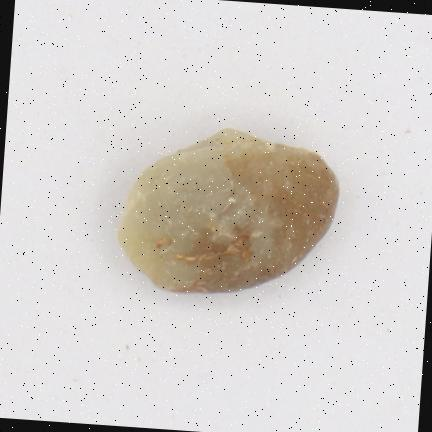broken: (118, 128, 338, 292)
